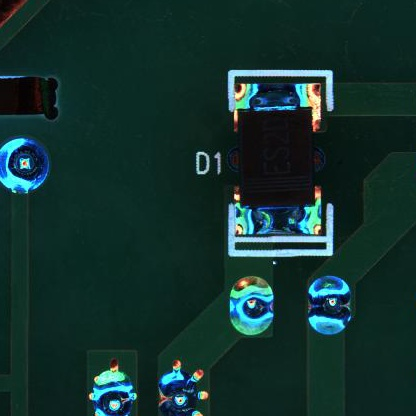spot: (84, 354, 141, 416), (153, 358, 211, 416), (227, 273, 278, 338), (304, 272, 355, 336), (1, 136, 52, 197)
